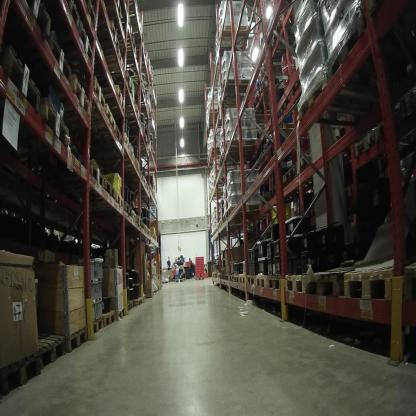pallet: (151, 156, 221, 296), (325, 8, 412, 105), (295, 80, 408, 125), (0, 39, 41, 115), (340, 259, 404, 304), (304, 257, 357, 302), (265, 22, 304, 64), (37, 95, 68, 146), (14, 1, 58, 36), (86, 16, 126, 54), (34, 333, 70, 375), (48, 31, 72, 92), (354, 123, 391, 162), (1, 356, 44, 388), (261, 117, 307, 143), (67, 72, 92, 118), (59, 320, 92, 351), (225, 198, 265, 223), (76, 26, 97, 72), (284, 261, 310, 298), (88, 103, 117, 136), (61, 133, 87, 169), (85, 73, 107, 114), (220, 73, 258, 95), (84, 153, 104, 194), (222, 134, 257, 157), (213, 95, 251, 115), (101, 82, 128, 110), (218, 23, 249, 46), (56, 2, 82, 29), (214, 39, 250, 58), (99, 123, 125, 149), (257, 82, 289, 103), (101, 53, 128, 77), (100, 169, 118, 204), (78, 1, 97, 30), (122, 39, 139, 65), (103, 2, 127, 20), (296, 151, 313, 175), (255, 269, 270, 293), (130, 13, 145, 37), (270, 269, 285, 292), (221, 215, 254, 225), (136, 142, 157, 157), (93, 311, 106, 335), (122, 16, 134, 42), (125, 106, 141, 125), (104, 307, 116, 330), (118, 128, 131, 149), (284, 161, 297, 182), (120, 200, 133, 220), (280, 95, 296, 111), (129, 294, 144, 311), (136, 87, 149, 104), (115, 191, 125, 213), (125, 87, 136, 107), (136, 56, 151, 70), (214, 227, 235, 237), (263, 132, 274, 151), (216, 222, 242, 230), (257, 62, 268, 80), (276, 171, 284, 195), (117, 303, 127, 322), (255, 147, 265, 166), (138, 104, 149, 120), (210, 187, 226, 198), (239, 269, 248, 288), (132, 211, 142, 228), (127, 122, 140, 135), (248, 264, 254, 292), (134, 157, 142, 177), (208, 192, 224, 202), (140, 217, 148, 235), (233, 271, 243, 285), (228, 271, 238, 283), (208, 147, 221, 156), (141, 174, 148, 190), (131, 149, 137, 165), (262, 186, 269, 199), (270, 180, 275, 198), (149, 74, 156, 84), (139, 174, 145, 185), (184, 275, 195, 281), (224, 271, 230, 282), (175, 278, 184, 285), (125, 299, 129, 314), (161, 278, 170, 284), (132, 209, 136, 222), (194, 277, 205, 281), (169, 278, 176, 283), (216, 271, 220, 279), (221, 272, 225, 279), (219, 272, 221, 279)
